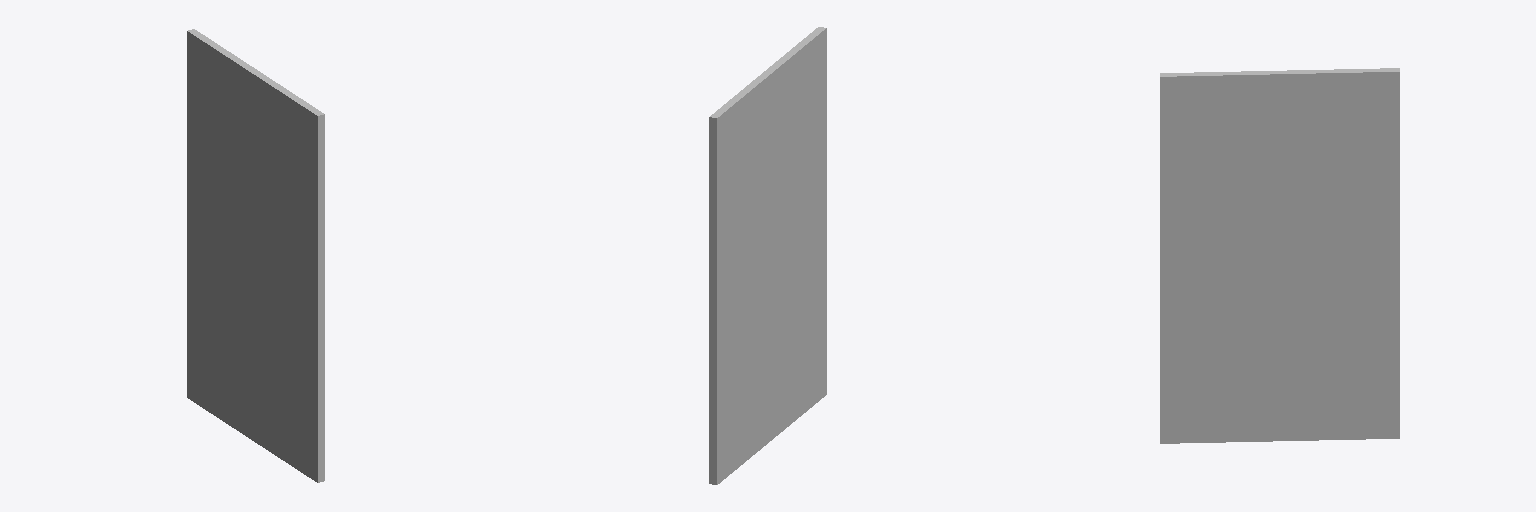
The model's file is bathwall.obj.
3 renders of one model, left to right at view 1: azimuth 30°, elevation 25°; view 2: azimuth 150°, elevation 25°; view 3: azimuth 270°, elevation 25°, orthographic.
Parts seen in each view (by area): view 1: Cube.001; view 2: Cube.001; view 3: Cube.001.
Boxes of the visible parts, <box> form: Cube.001: <box>187,29,324,482</box>; Cube.001: <box>709,27,826,484</box>; Cube.001: <box>1160,68,1399,443</box>.
Size of the model in its own units: 0.0696 by 1.36 by 0.8068.